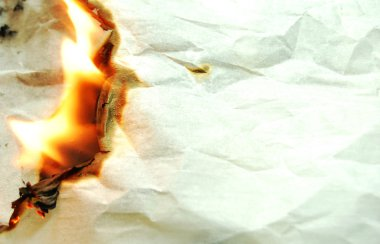fire: (8, 10, 104, 167)
